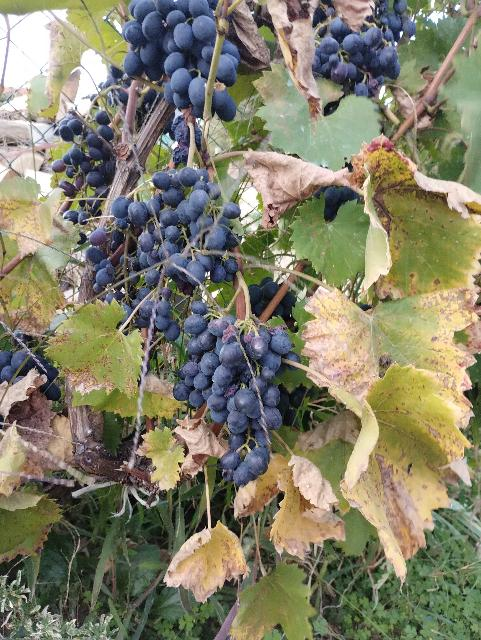grapes: (111, 166, 241, 340), (208, 325, 290, 488), (51, 110, 116, 224), (174, 301, 229, 408)
